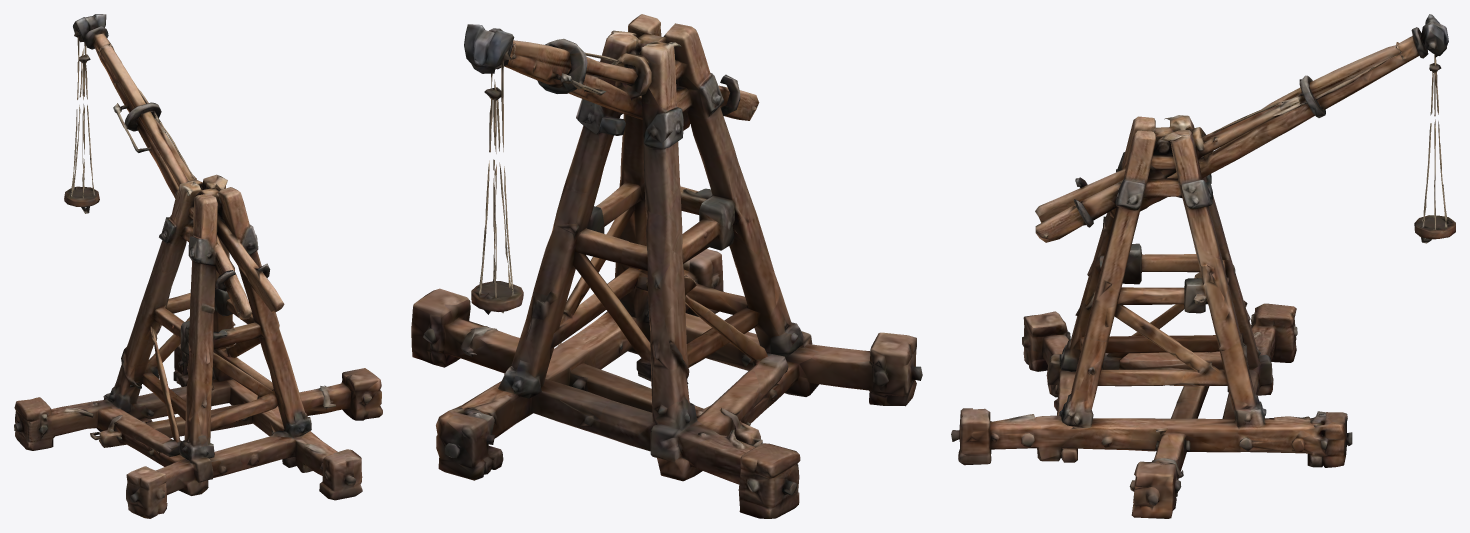
Rendered from trebuchet-low.glb.
3 views of the same model, side by side, from view 1: azimuth 30°, elevation 25°; view 2: azimuth 150°, elevation 25°; view 3: azimuth 270°, elevation 25° (orthographic). The views are drawn at different scales.
Bounding box in the file's own units: 0.8292 × 0.8885 × 0.9991.
Materials: 1 (1 with a texture image).
